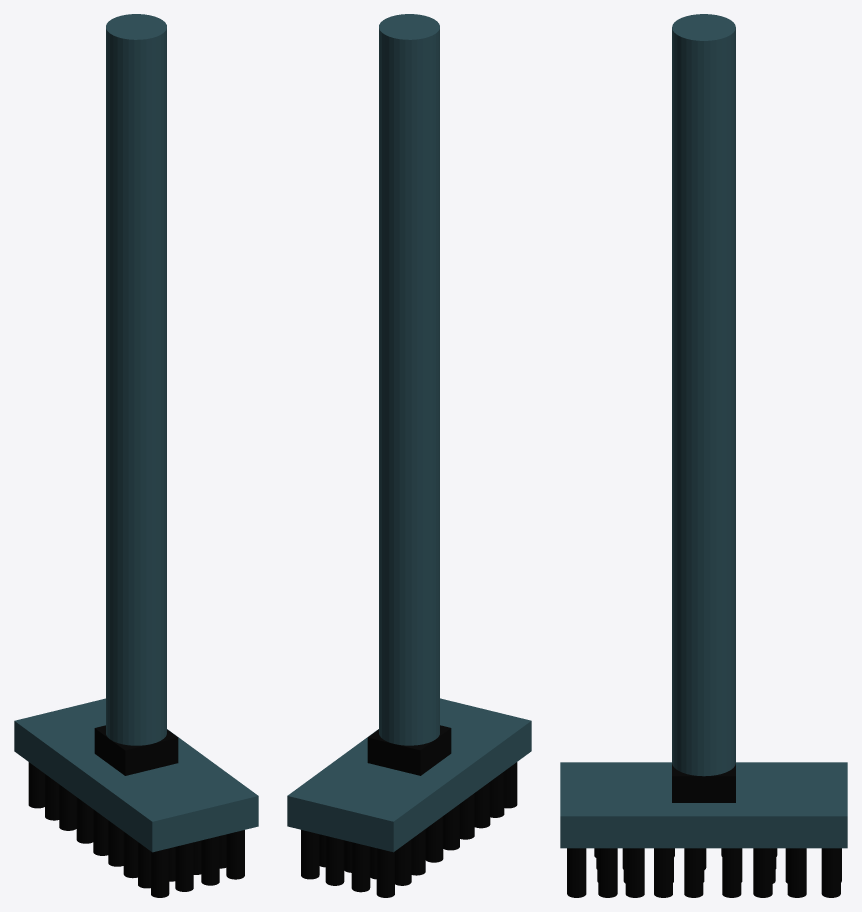
File: Bezem.obj
3 views of the same model, side by side, from view 1: azimuth 30°, elevation 25°; view 2: azimuth 150°, elevation 25°; view 3: azimuth 270°, elevation 25° (orthographic). The views are drawn at different scales.
Visible parts, largest first — view 1: Stam_Cylinder, BezemStuk_Cube.002, Overgang_Cube.001, Cylinder_Cylinder.001, Cylinder.018_Cylinder.019, Cylinder.027_Cylinder.028, Cylinder.009_Cylinder.010, Cylinder.005_Cylinder.006, Cylinder.006_Cylinder.007, Cylinder.008_Cylinder.009, Cylinder.003_Cylinder.004, Cylinder.004_Cylinder.005 (+3 smaller); view 2: Stam_Cylinder, BezemStuk_Cube.002, Overgang_Cube.001, Cylinder.017_Cylinder.018, Cylinder.026_Cylinder.027, Cylinder.008_Cylinder.009, Cylinder.035_Cylinder.036, Cylinder.005_Cylinder.006, Cylinder.002_Cylinder.003, Cylinder.007_Cylinder.008, Cylinder.004_Cylinder.005, Cylinder.001_Cylinder.002 (+3 smaller); view 3: Stam_Cylinder, BezemStuk_Cube.002, Overgang_Cube.001, Cylinder.028_Cylinder.029, Cylinder.029_Cylinder.030, Cylinder.031_Cylinder.032, Cylinder.032_Cylinder.033, Cylinder.033_Cylinder.034, Cylinder.034_Cylinder.035, Cylinder.027_Cylinder.028, Cylinder.035_Cylinder.036, Cylinder.030_Cylinder.031.
Part boxes in pixels (x1,y1,x2,y2): Stam_Cylinder: [106, 14, 166, 745]; BezemStuk_Cube.002: [14, 698, 258, 852]; Overgang_Cube.001: [94, 725, 178, 775]; Cylinder_Cylinder.001: [151, 848, 169, 897]; Cylinder.018_Cylinder.019: [201, 836, 219, 885]; Cylinder.027_Cylinder.028: [226, 830, 244, 879]; Cylinder.009_Cylinder.010: [175, 842, 193, 891]; Cylinder.005_Cylinder.006: [76, 797, 93, 843]; Cylinder.006_Cylinder.007: [59, 784, 76, 830]; Cylinder.008_Cylinder.009: [28, 762, 44, 808]; Cylinder.003_Cylinder.004: [108, 820, 123, 866]; Cylinder.004_Cylinder.005: [93, 809, 108, 855]; Stam_Cylinder: [379, 14, 439, 745]; BezemStuk_Cube.002: [287, 698, 531, 852]; Overgang_Cube.001: [367, 725, 451, 775]; Cylinder.017_Cylinder.018: [351, 842, 370, 892]; Cylinder.026_Cylinder.027: [325, 836, 344, 885]; Cylinder.008_Cylinder.009: [376, 848, 394, 897]; Cylinder.035_Cylinder.036: [301, 830, 319, 879]; Cylinder.005_Cylinder.006: [425, 816, 443, 862]; Cylinder.002_Cylinder.003: [474, 782, 490, 828]; Cylinder.007_Cylinder.008: [395, 839, 411, 885]; Cylinder.004_Cylinder.005: [443, 804, 459, 850]; Cylinder.001_Cylinder.002: [490, 771, 504, 817]; Stam_Cylinder: [672, 14, 735, 776]; BezemStuk_Cube.002: [560, 762, 847, 848]; Overgang_Cube.001: [672, 763, 735, 802]; Cylinder.028_Cylinder.029: [598, 848, 617, 897]; Cylinder.029_Cylinder.030: [625, 848, 644, 897]; Cylinder.031_Cylinder.032: [684, 848, 703, 897]; Cylinder.032_Cylinder.033: [722, 848, 741, 897]; Cylinder.033_Cylinder.034: [753, 848, 772, 897]; Cylinder.034_Cylinder.035: [787, 848, 806, 897]; Cylinder.027_Cylinder.028: [567, 848, 586, 897]; Cylinder.035_Cylinder.036: [821, 848, 840, 897]; Cylinder.030_Cylinder.031: [654, 848, 672, 897].
Size of the model in its own units: 0.2 by 1.46 by 0.45.
